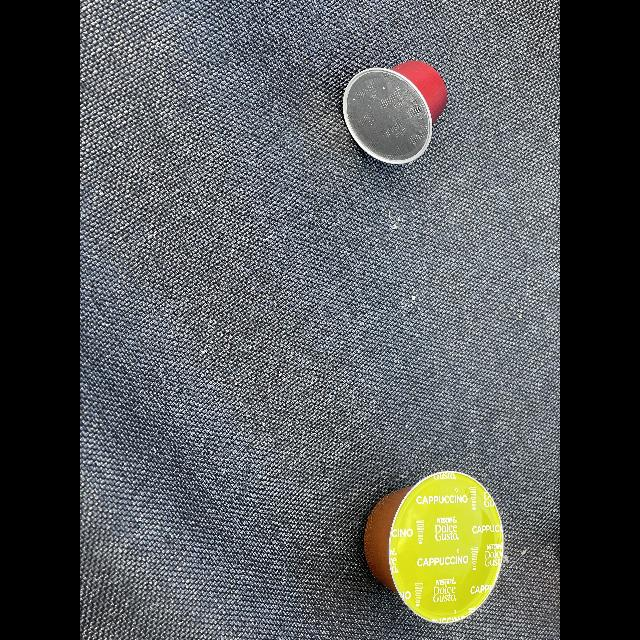intact_capsule: (348, 452, 524, 632), (339, 50, 461, 174)
